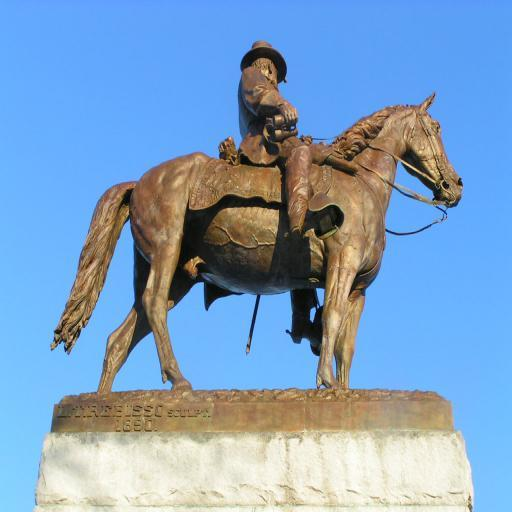Horse: (50, 89, 464, 392)
